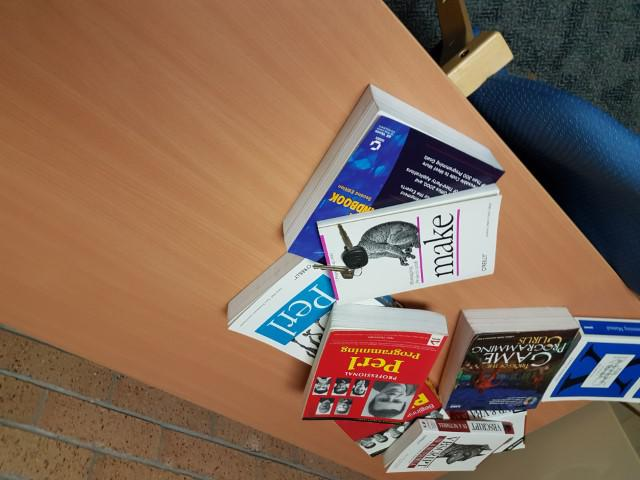key: (333, 220, 372, 271)
